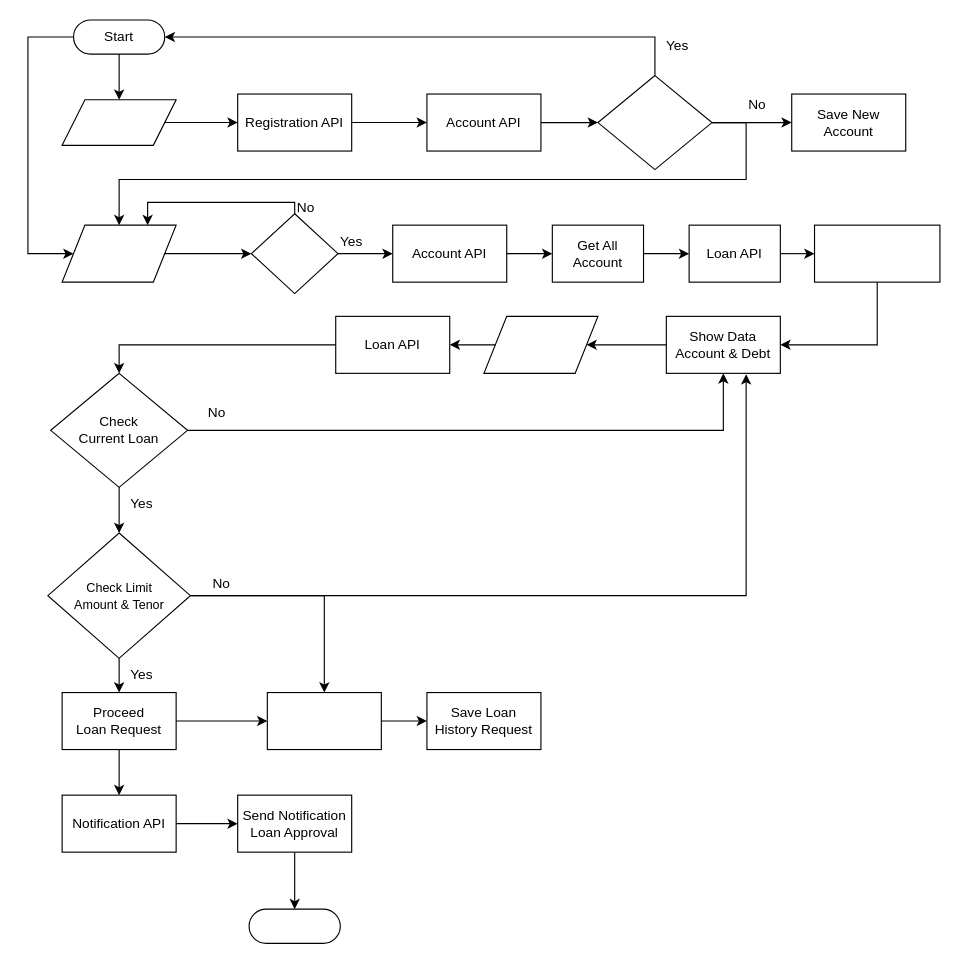
Some shapes in this 960 by 963 pixel diagram are drawn without their labels. Here are the shapes that lost their labels. From the top down, the box of each, then its label:
(61, 99, 176, 145): Input Registration
(597, 74, 712, 170): Check Existing Account
(61, 224, 176, 282): Input Login
(250, 213, 338, 294): Verification
(813, 224, 940, 282): Get All Loan By Accout Number
(483, 315, 598, 373): Input Loan Request
(266, 691, 381, 750): Loan History API
(248, 908, 340, 943): End
